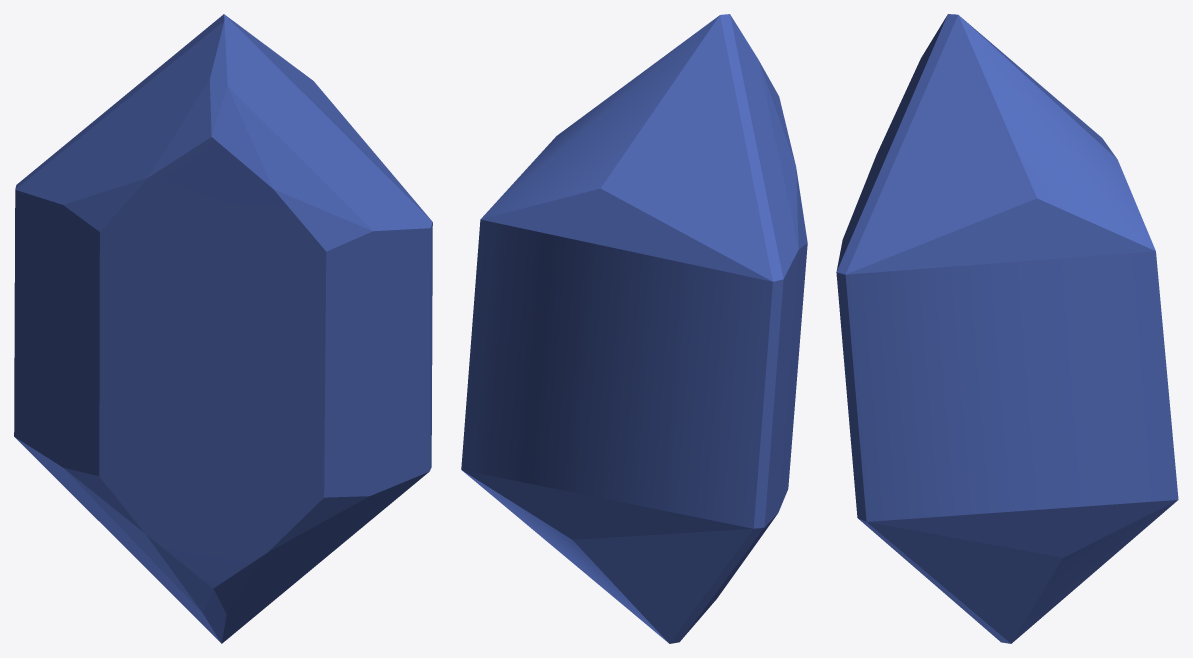
The model's file is BL3_8shapes_Hex_Classic_Stone.001 3.glb.
3 views of the same model, side by side, from view 1: azimuth 30°, elevation 25°; view 2: azimuth 150°, elevation 25°; view 3: azimuth 270°, elevation 25° (orthographic). The views are drawn at different scales.
Parts seen in each view (by area): view 1: BL3_8shapes_Hex_Classic_Stone.001; view 2: BL3_8shapes_Hex_Classic_Stone.001; view 3: BL3_8shapes_Hex_Classic_Stone.001.
Part boxes in pixels (<box>): BL3_8shapes_Hex_Classic_Stone.001: <box>14,14,432,643</box>; BL3_8shapes_Hex_Classic_Stone.001: <box>461,14,807,643</box>; BL3_8shapes_Hex_Classic_Stone.001: <box>836,14,1178,643</box>.
Bounding box in the file's own units: 0.3285 × 0.6878 × 0.3448.
